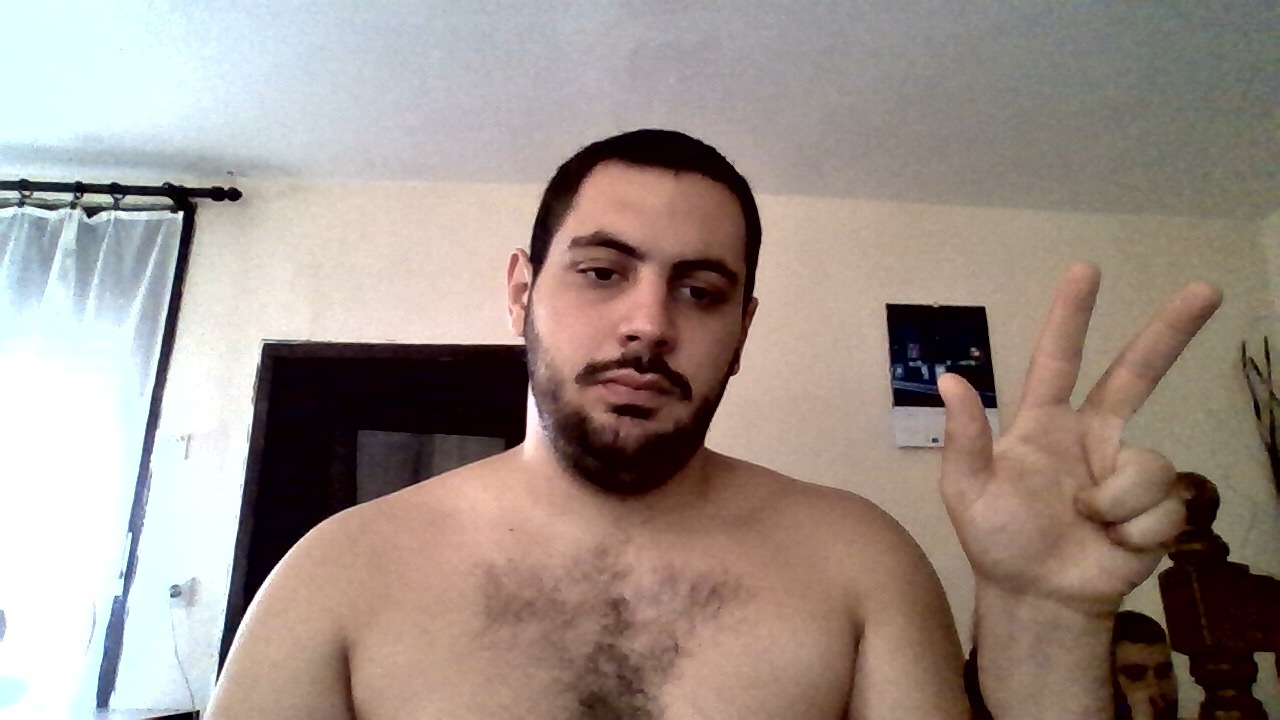serbia: (941, 277, 1228, 584)
